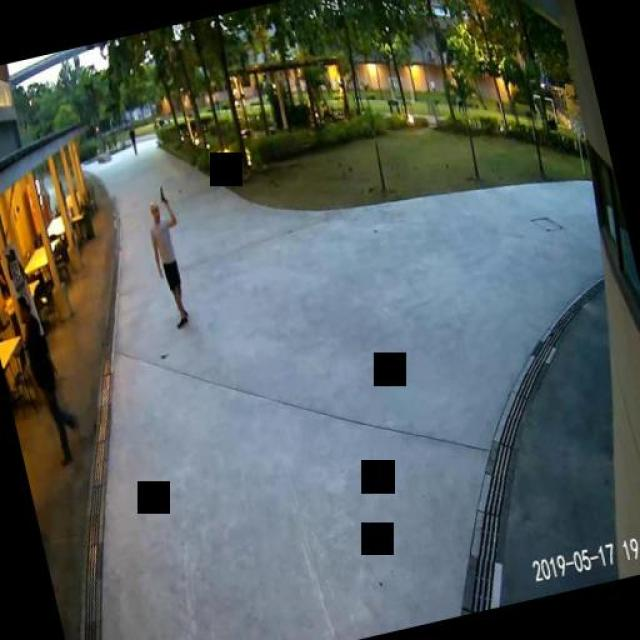gun: (156, 183, 168, 205)
